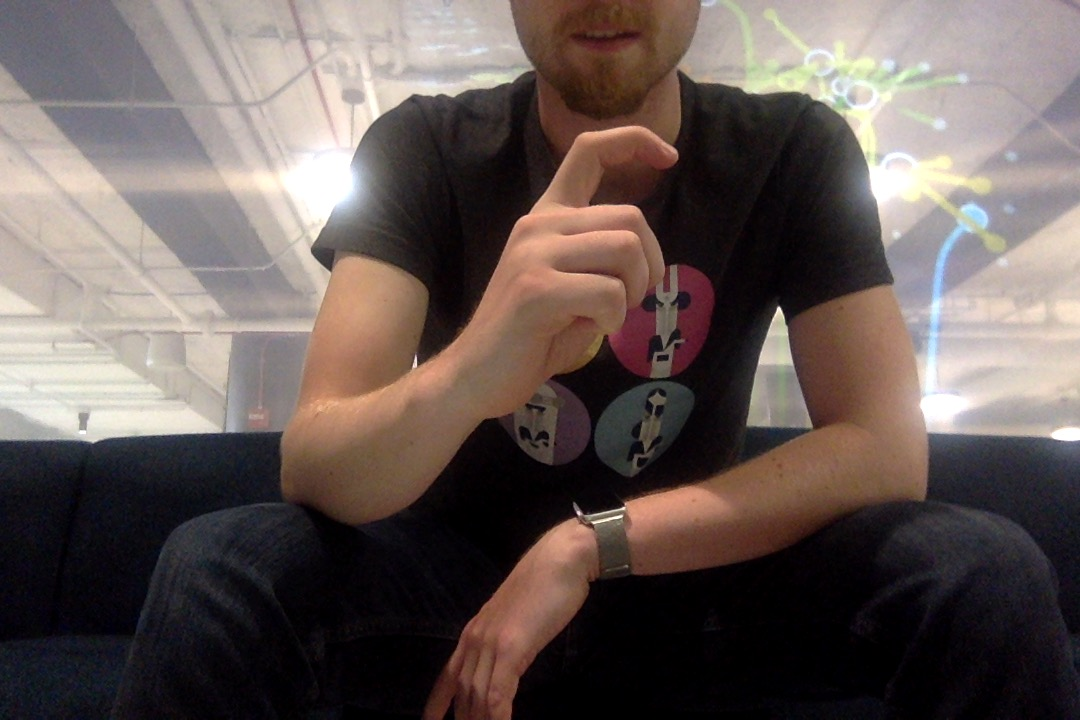x: (495, 116, 687, 400)
